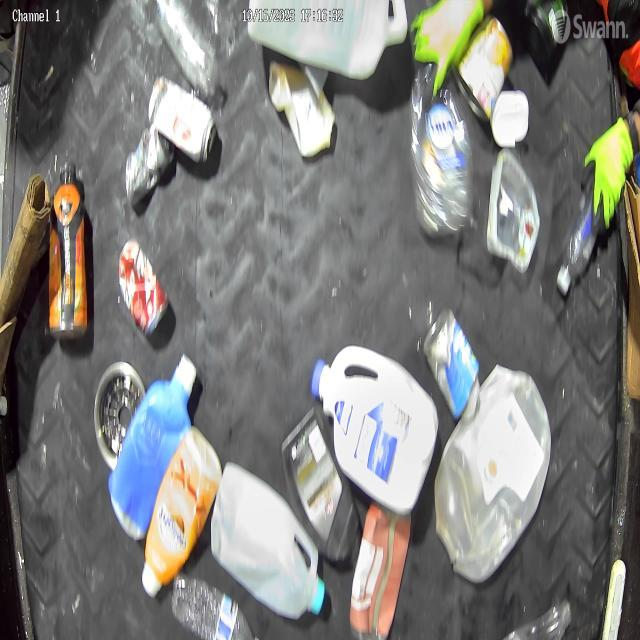can: (422, 302, 476, 417), (152, 78, 220, 164), (458, 19, 511, 117), (114, 239, 168, 333), (122, 126, 174, 200)
milk_jug: (433, 368, 551, 588), (312, 347, 436, 516), (211, 458, 328, 628), (245, 0, 409, 84)
non_white_jug: (115, 358, 203, 542), (138, 428, 216, 595)
plastic_bottle: (168, 573, 264, 640), (558, 180, 598, 304)
